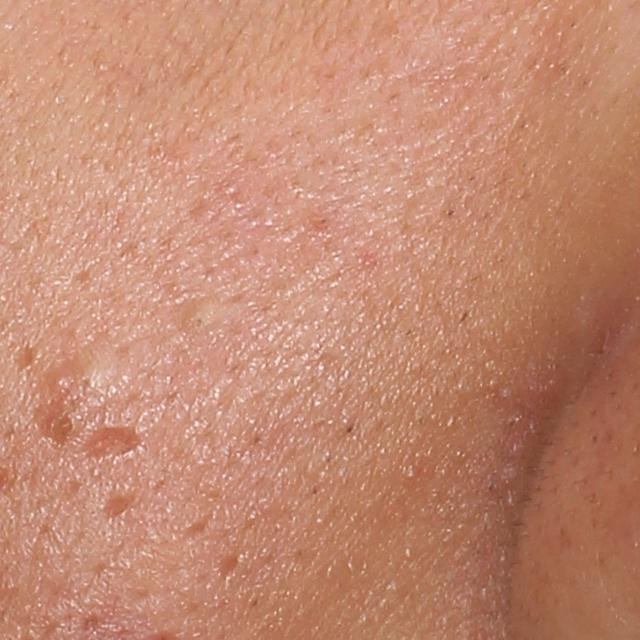atrophic_scar: (122, 522, 181, 608), (25, 400, 78, 454), (82, 424, 145, 468), (101, 491, 139, 519), (215, 551, 243, 584), (6, 343, 36, 372)
